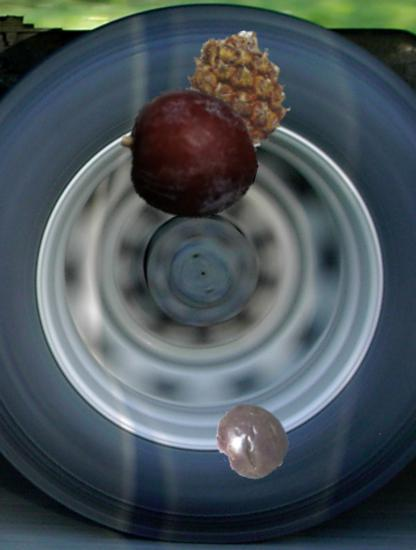Passion: (212, 401, 291, 480)
Pineapple: (178, 32, 296, 150)
Plum: (120, 84, 260, 224)
